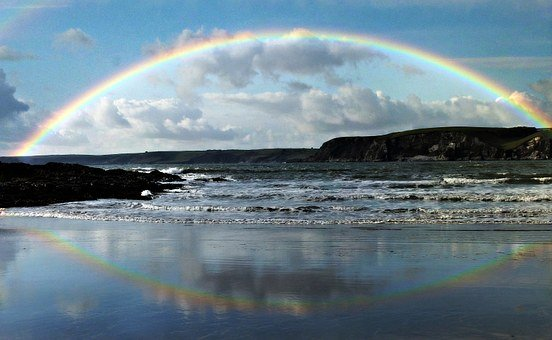beach: (19, 171, 544, 334)
sky: (7, 4, 552, 126)
